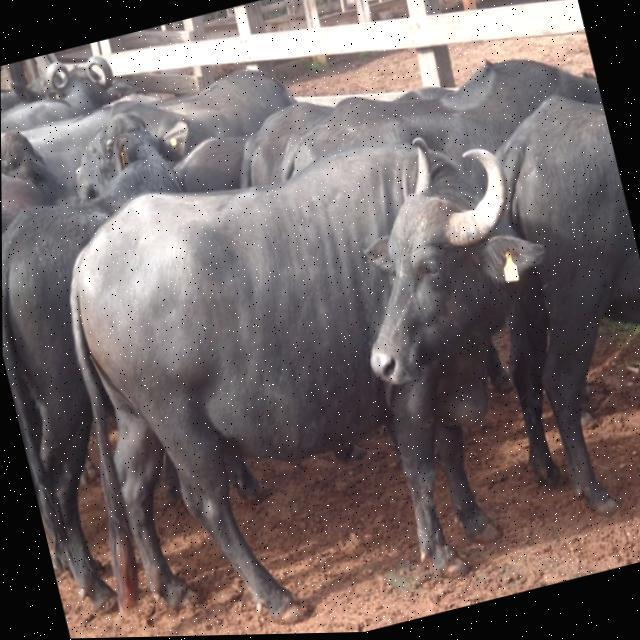Buffalo: (23, 96, 614, 640)
